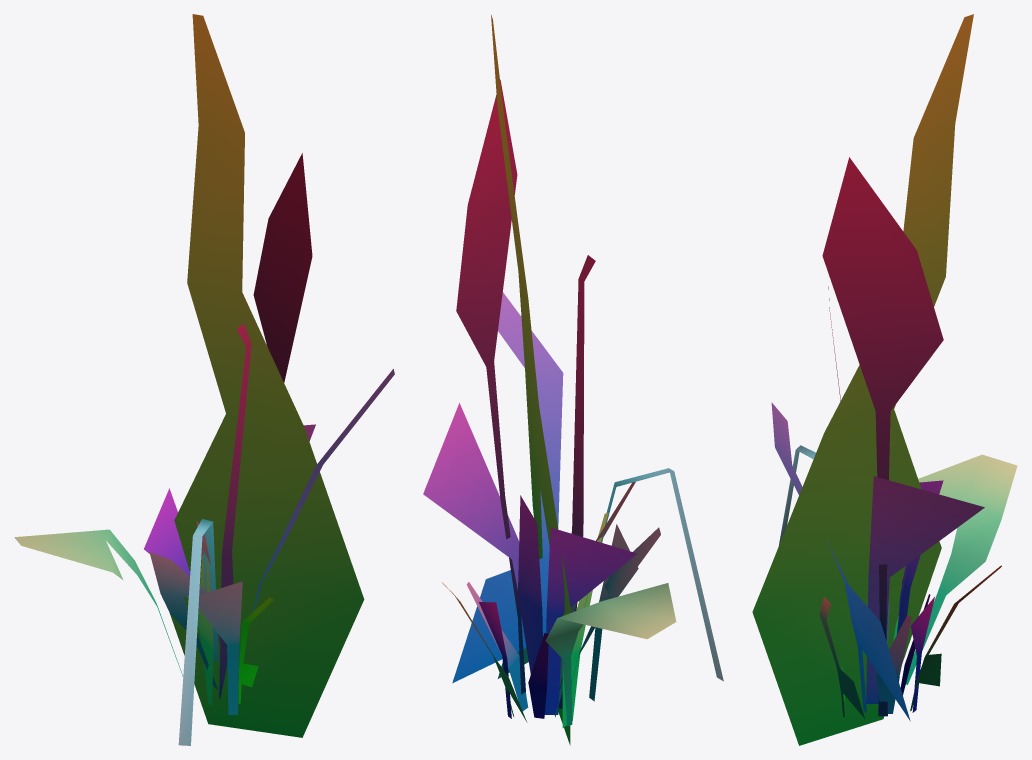
The model's file is Dry_Grass_tbbqejqr_Mid_tbbqejqr_VarC_LOD1.fbx.
The picture shows the model from 3 angles, left to right: view 1: azimuth 30°, elevation 25°; view 2: azimuth 150°, elevation 25°; view 3: azimuth 270°, elevation 25°; orthographic projection. The views are drawn at different scales.
Parts seen in each view (by area): view 1: _8a7b_VarC_LOD2; view 2: _8a7b_VarC_LOD2; view 3: _8a7b_VarC_LOD2.
Boxes of the visible parts, x1,y1,x2,y2 form: _8a7b_VarC_LOD2: [14, 14, 394, 745]; _8a7b_VarC_LOD2: [423, 15, 723, 745]; _8a7b_VarC_LOD2: [752, 14, 1017, 745].
Bounding box in the file's own units: 21.06 × 47.89 × 16.
